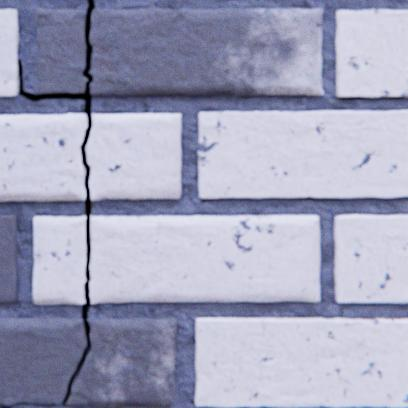brick: (194, 317, 407, 406), (197, 110, 407, 197), (333, 214, 407, 302), (334, 10, 407, 97), (0, 10, 18, 96), (0, 215, 17, 301)
broken_brick: (89, 9, 322, 96), (89, 215, 319, 302), (66, 317, 176, 405), (86, 114, 180, 199), (0, 114, 87, 200), (0, 317, 86, 403), (33, 216, 85, 303), (37, 9, 87, 94)
crack: (0, 0, 95, 407)
